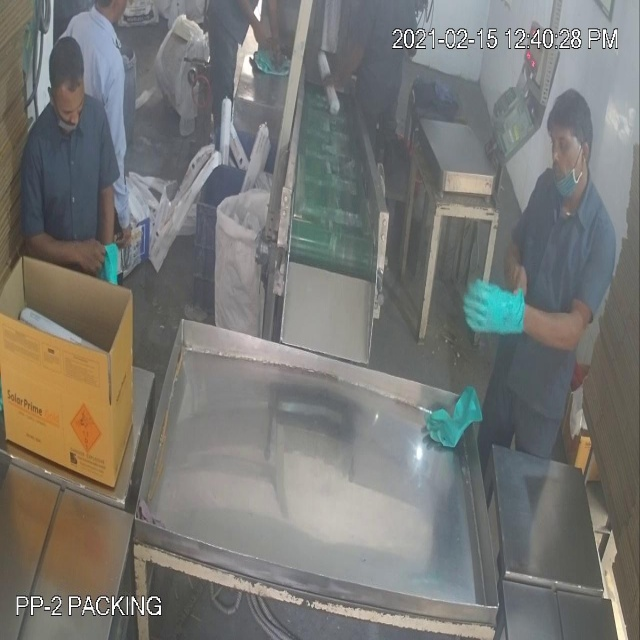Guantes: (464, 268, 527, 348), (424, 381, 485, 456)
Sin_guantes: (23, 228, 106, 280), (317, 36, 372, 98)
